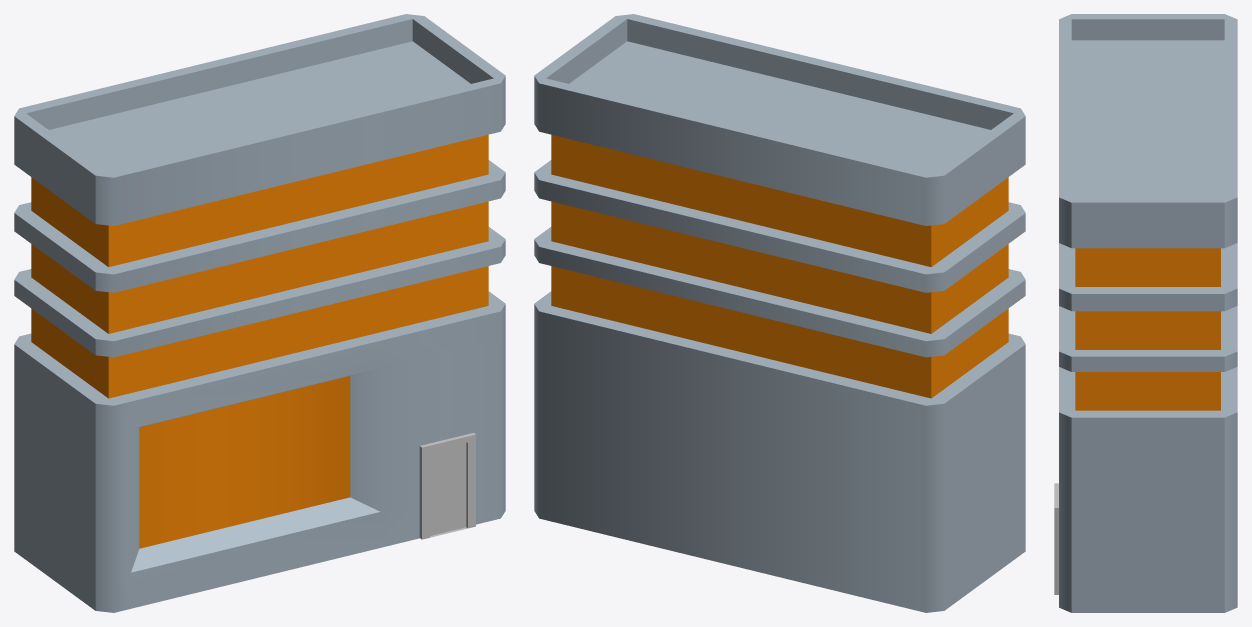
File: Building_8.FBX
3 views of the same model, side by side, from view 1: azimuth 30°, elevation 25°; view 2: azimuth 150°, elevation 25°; view 3: azimuth 270°, elevation 25° (orthographic). The views are drawn at different scales.
Visible parts, largest first — view 1: Building 8; view 2: Building 8; view 3: Building 8.
Boxes of the visible parts, x1,y1,x2,y2 form: Building 8: (14,14,505,612); Building 8: (534,14,1025,612); Building 8: (1054,14,1237,612).
Size of the model in its own units: 1000 by 1014 by 410.
